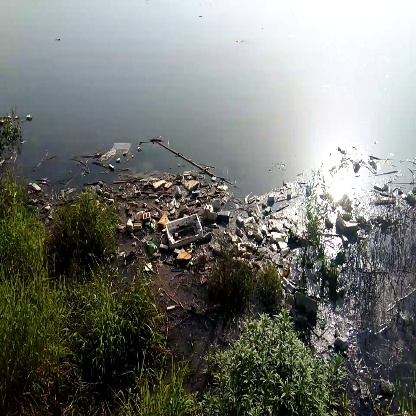plastic-garbage: (163, 211, 207, 249)
